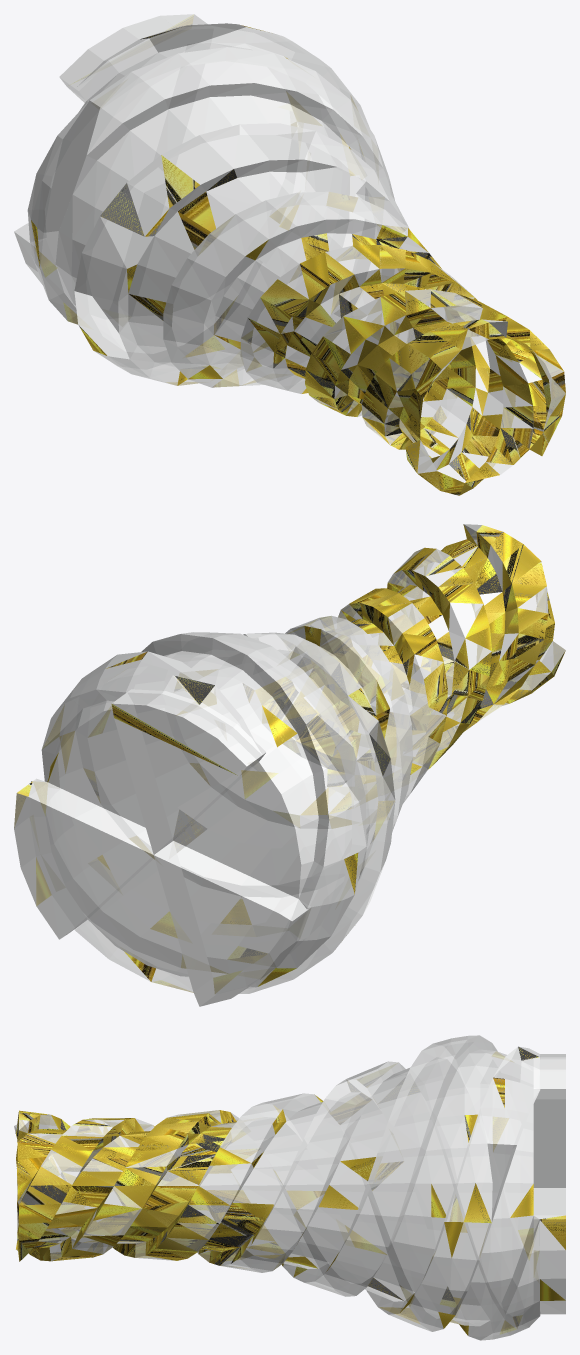
Rendered from model_align.obj.
3 renders of one model, top to bottom at view 1: azimuth 30°, elevation 25°; view 2: azimuth 150°, elevation 25°; view 3: azimuth 270°, elevation 25°, orthographic. The views are drawn at different scales.
Bounding box in the file's own units: 0.1284 × 0.1274 × 0.2321.
2 materials, 2 textured.
